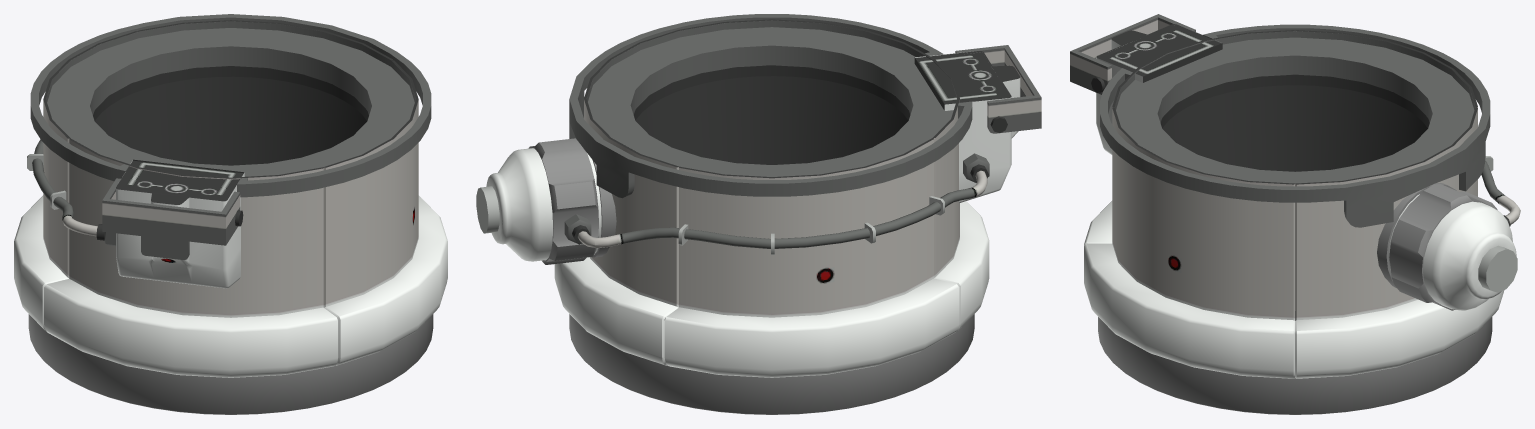
The model's file is gel_white.glb.
3 views of the same model, side by side, from view 1: azimuth 30°, elevation 25°; view 2: azimuth 150°, elevation 25°; view 3: azimuth 270°, elevation 25° (orthographic). The views are drawn at different scales.
Visible parts, largest first — view 1: EDITOR_paint_dropper.004; view 2: EDITOR_paint_dropper.004; view 3: EDITOR_paint_dropper.004.
Part boxes in pixels (x1,y1,x2,y2): EDITOR_paint_dropper.004: [14, 14, 447, 414]; EDITOR_paint_dropper.004: [476, 14, 1041, 414]; EDITOR_paint_dropper.004: [1070, 14, 1520, 414].
Size of the model in its own units: 1.52 by 0.894 by 1.54.
Materials: 1 (1 with a texture image).
